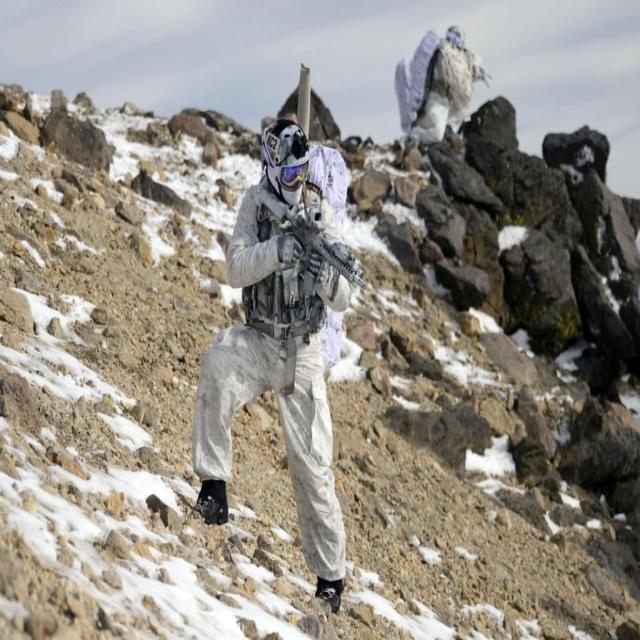Human: (183, 119, 375, 613)
